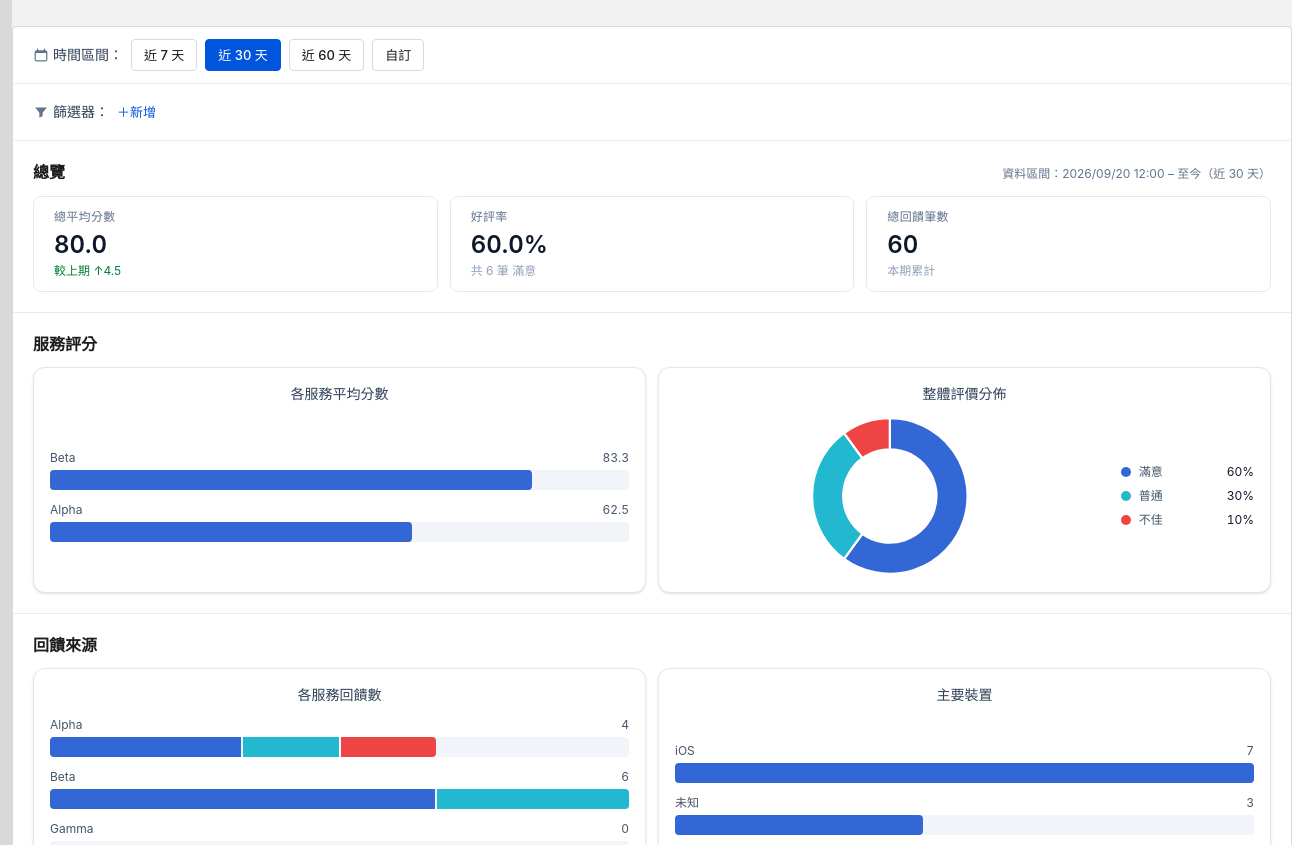
Test: FeedbackOverviewPage: activity log and errors › opens on the page from the link and goes back to page 1 when the filters change
Step 1. Click the button "近 7 天" → (164, 55), box x1=131 y1=39 x2=197 y2=71
(page scrolled)
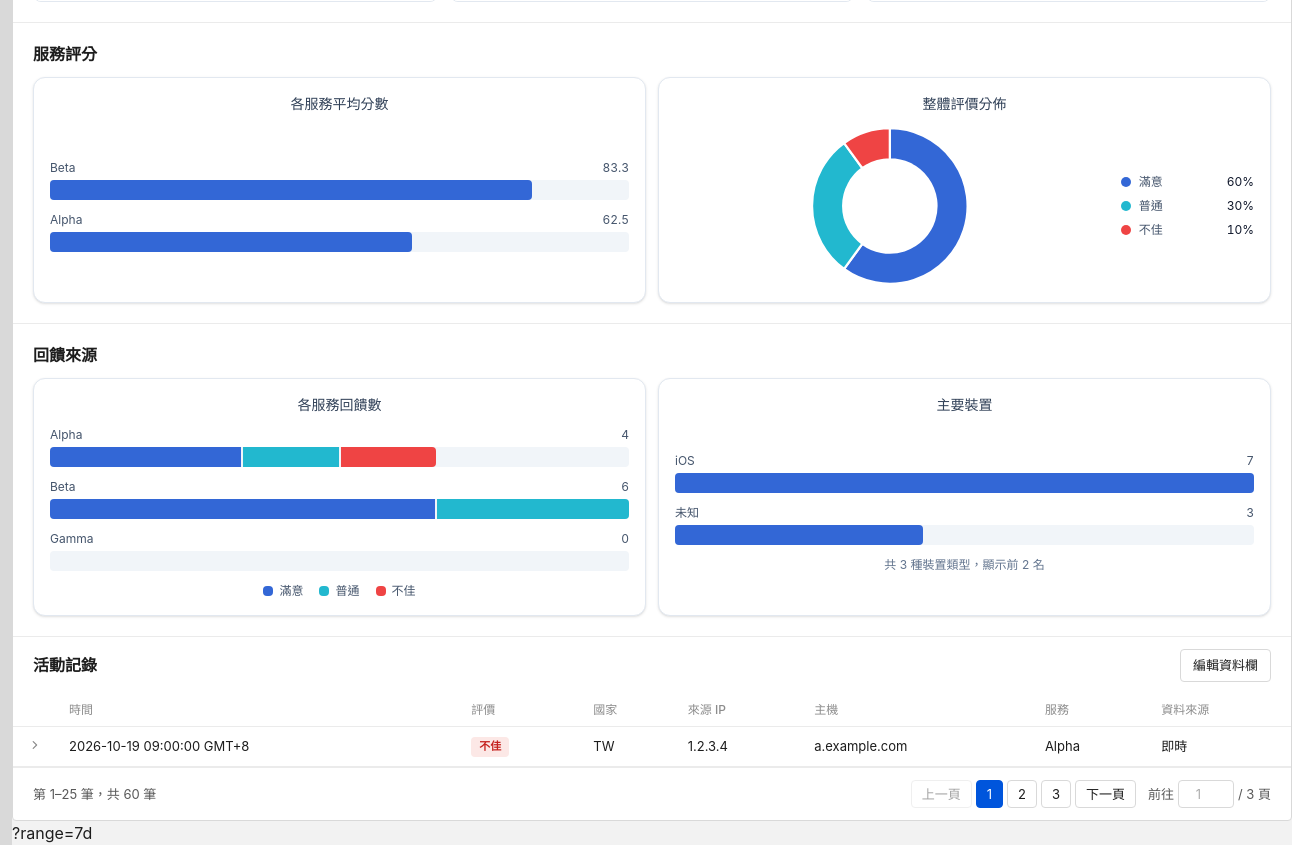
Result: the text named "location" reads "?range=7d" at x1=12 y1=823 x2=92 y2=843
